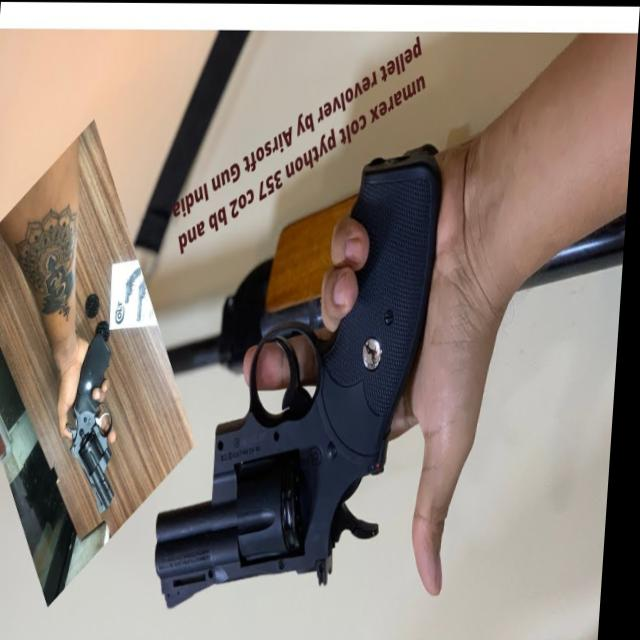handgun: (142, 132, 485, 619)
